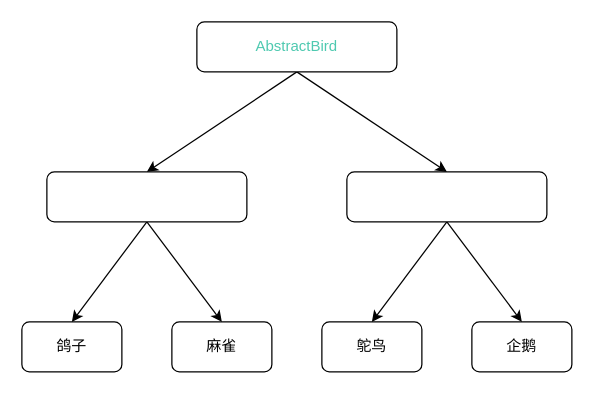
This 594x394 diagram has some shape labels left out. Each missing label, with the box of its shape:
AbstractFlyBird: (46, 171, 247, 222)
AbstractUnFlyBird: (346, 171, 547, 222)
